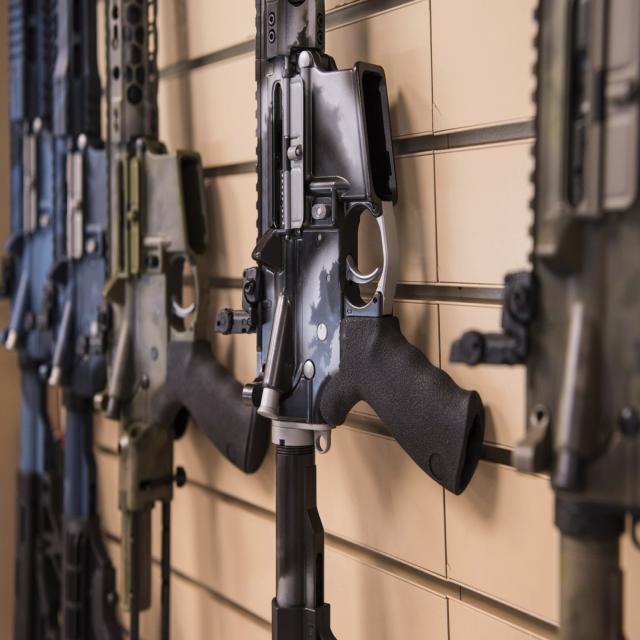Rifle: (243, 0, 485, 640), (104, 0, 271, 640)
